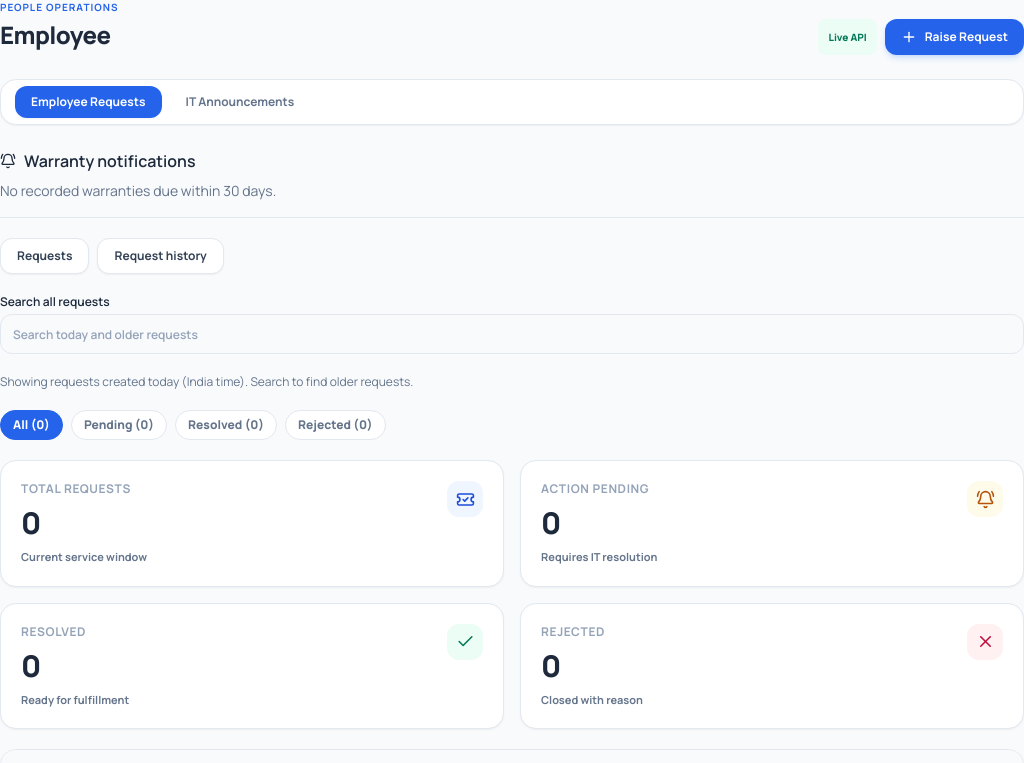
Test case: Employee support actions › submits software_installation to the staff workflow and shows saved history
The width and height of the screenshot is (1024, 763).
Expected: the text "Live API" is shown, [818,19,877,55]
Click the button "Raise Request": (954, 37) [885,19,1023,55]
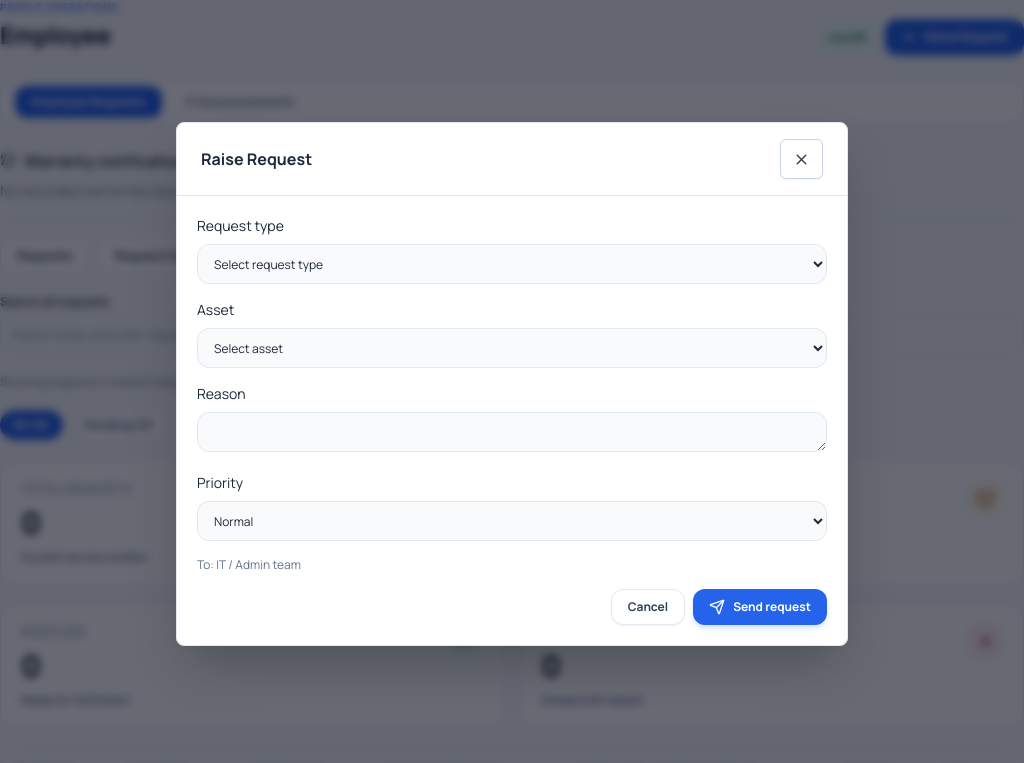
Result: the number of dropdowns is 3
Result: the number of text boxes is 1 at [197,412,827,452]
Select "My keyboard - KEY-1" in the dropdown labelled "Asset": (512, 348) [197,328,827,368]
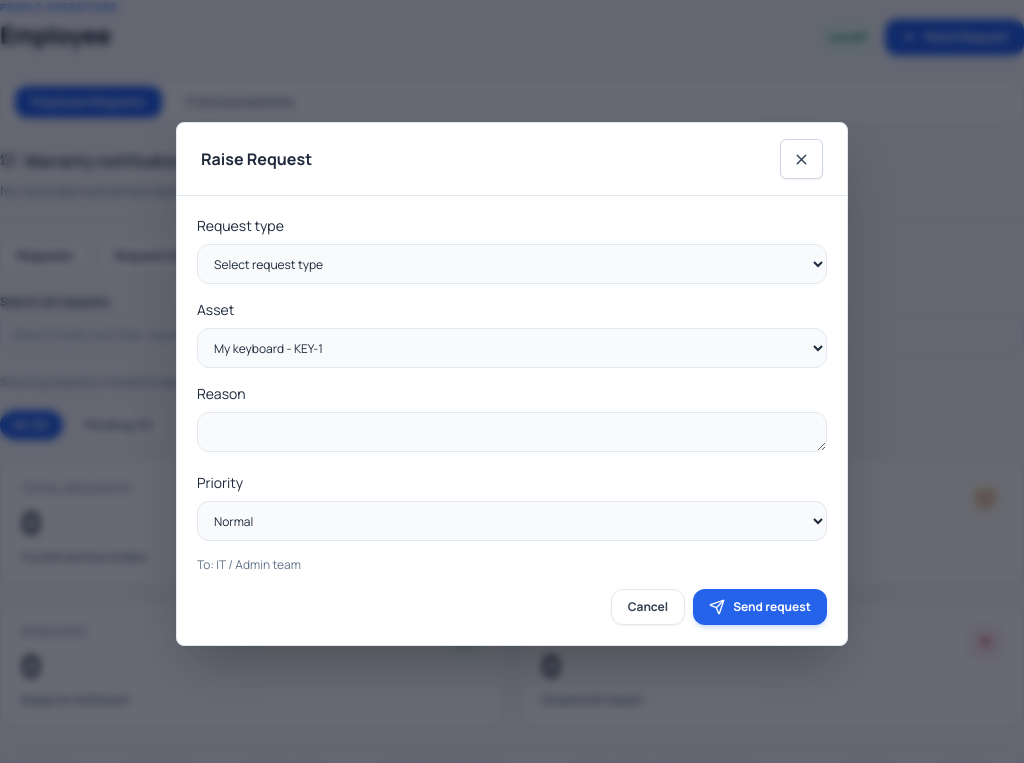
Select "Install new software" in the dropdown labelled "Request type": (512, 264) [197,244,827,284]
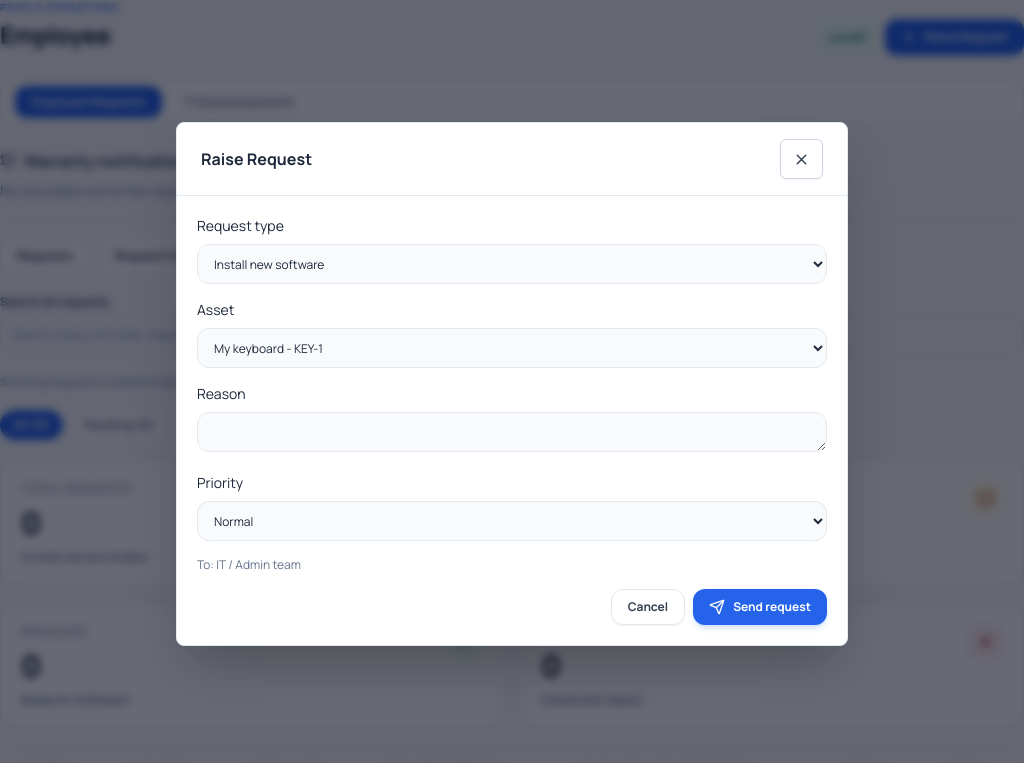
In the text box labelled "Reason": (512, 432) [197,412,827,452], type "Required for development"
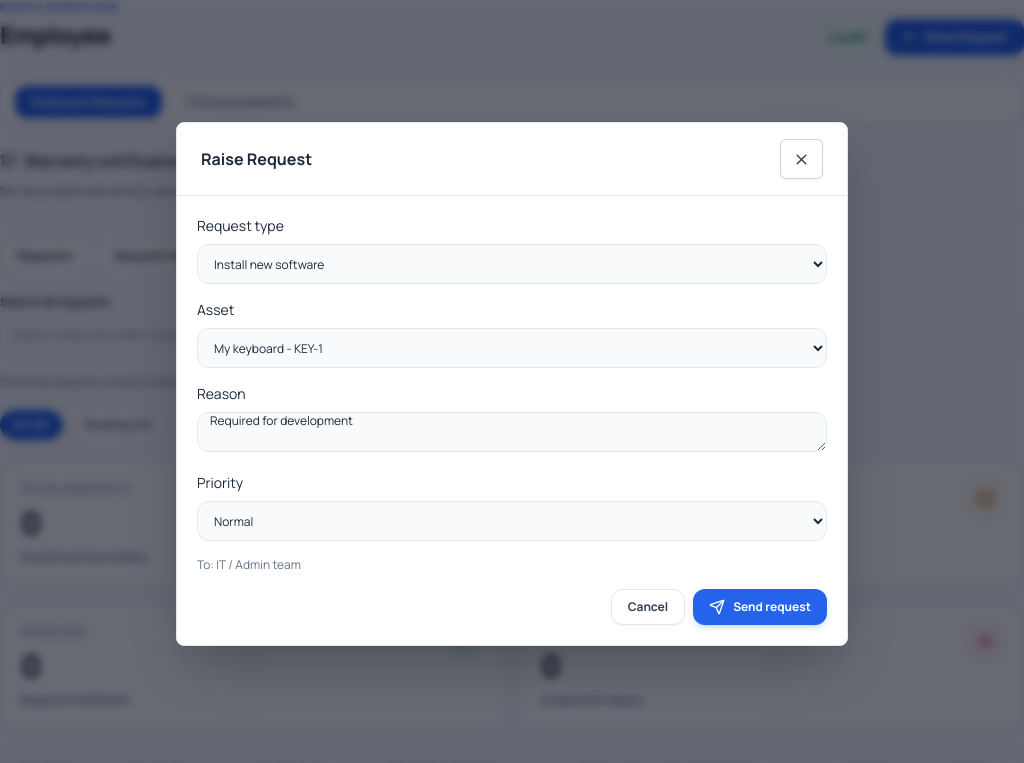
Click the button "Send request": (760, 607) [693,589,827,625]
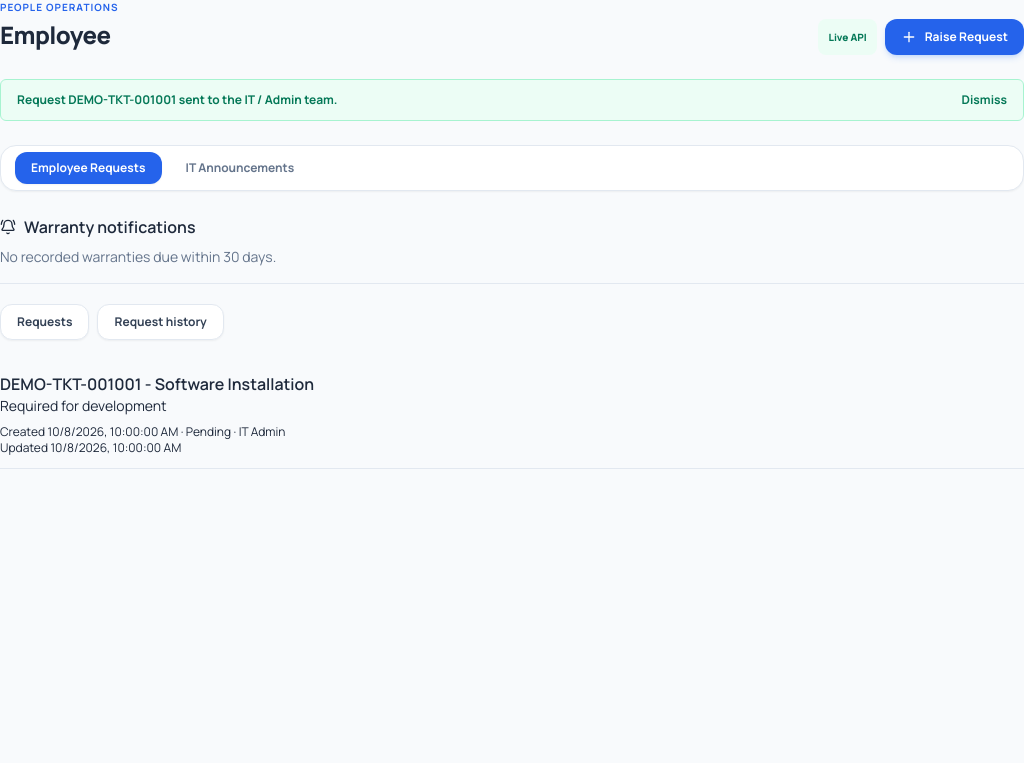
Result: the text "Required for development" is shown at [0,396,167,415]
Result: the element named "Request history" shows "IT Admin" at [239,423,285,440]
